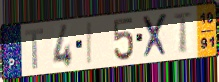4: (51, 23, 74, 69)
5: (112, 16, 136, 62)
I: (86, 20, 94, 66)
T: (172, 11, 195, 55), (24, 27, 46, 71)
X: (142, 12, 169, 61)
